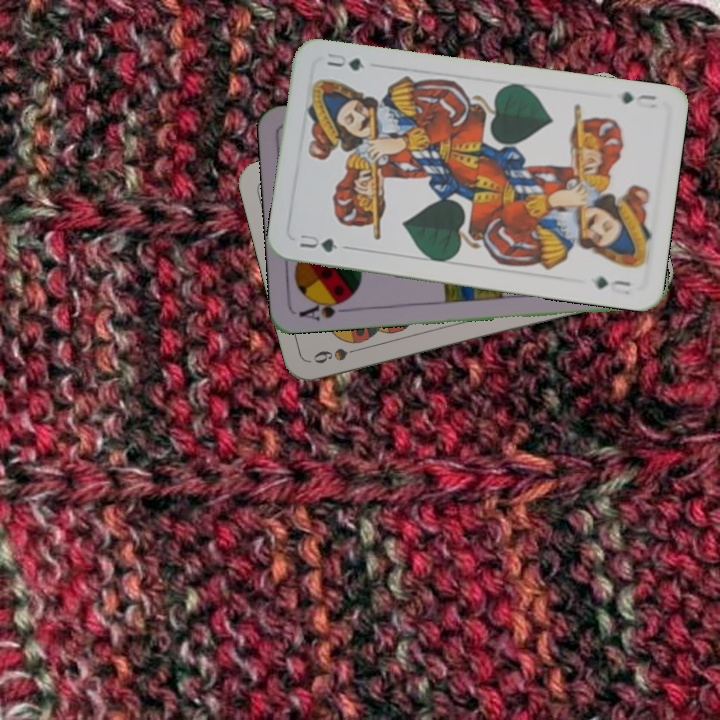GU: (296, 230, 340, 255), (618, 87, 659, 107)
S9: (308, 342, 367, 366)
SA: (295, 294, 354, 323)
